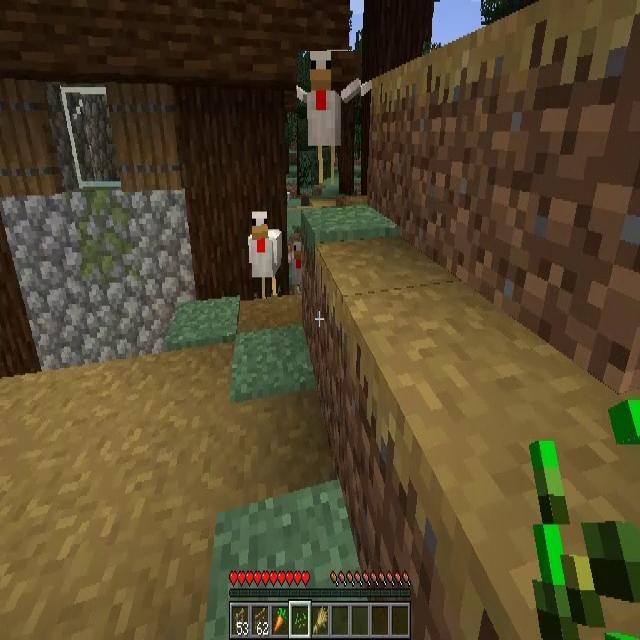duck: (297, 51, 361, 196), (247, 212, 282, 296), (288, 241, 304, 294)
